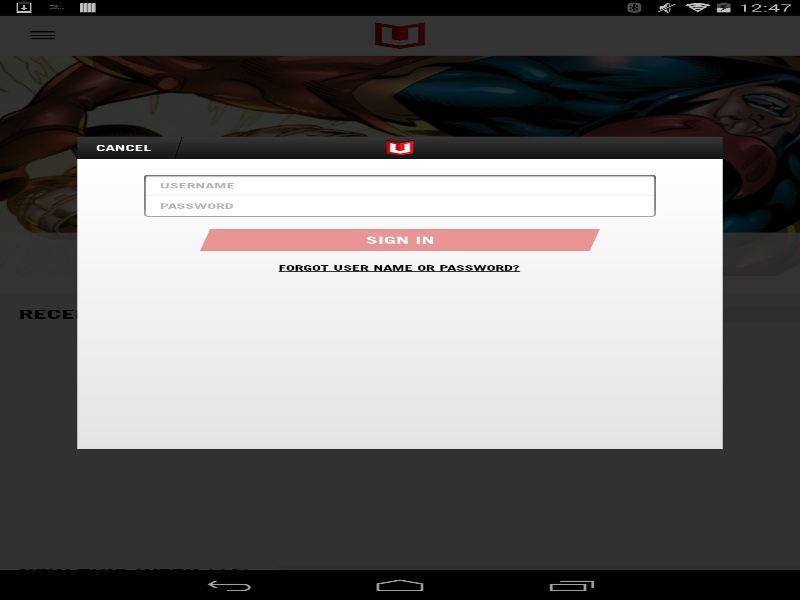Button: (77, 136, 184, 159)
Input: (145, 175, 654, 195), (145, 195, 654, 215)
